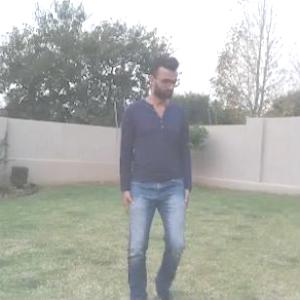follow: (116, 33, 194, 299)
